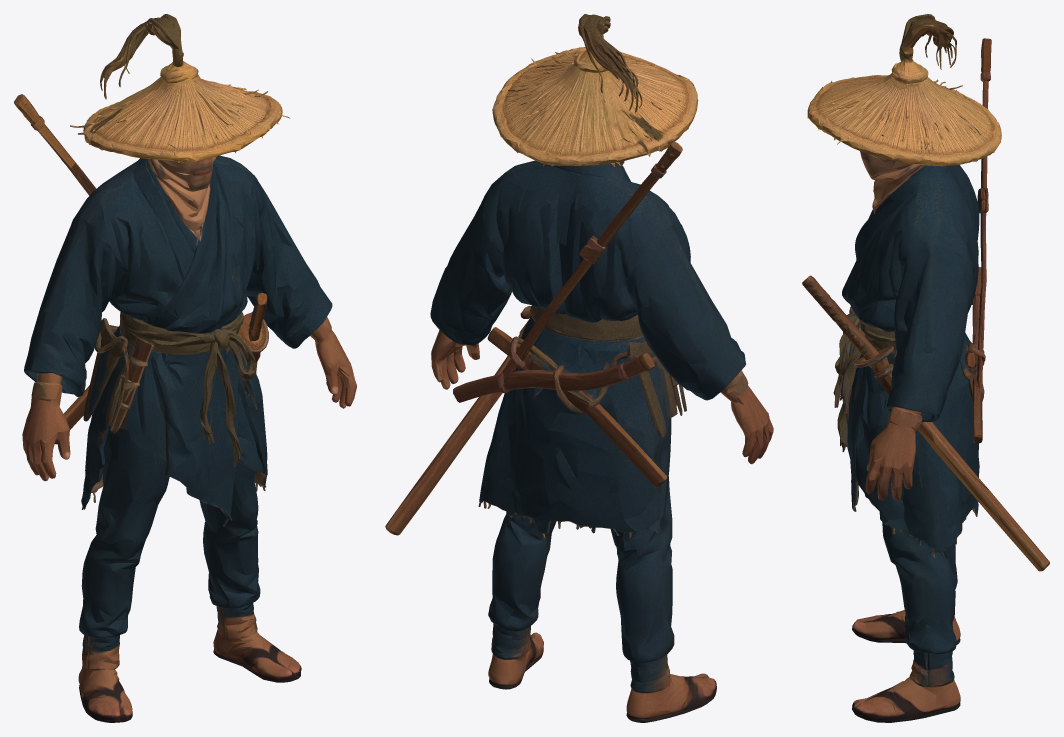
File: forest_bandit_v2_refine.glb
3 renders of one model, left to right at view 1: azimuth 30°, elevation 25°; view 2: azimuth 150°, elevation 25°; view 3: azimuth 270°, elevation 25°, orthographic. The views are drawn at different scales.
Bounding box in the file's own units: 0.9578 × 1.9 × 0.6544.
Materials: 1 (1 with a texture image).
